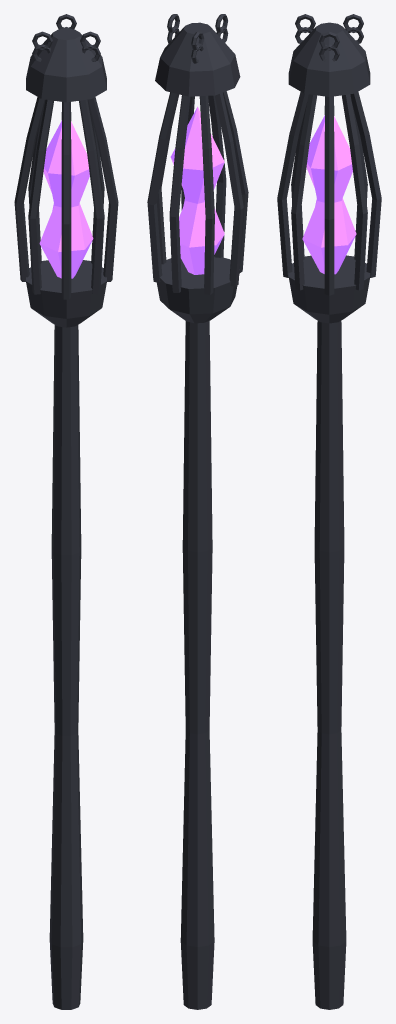
File: staff_cage.glb
3 views of the same model, side by side, from view 1: azimuth 90°, elevation 25°; view 2: azimuth 150°, elevation 25°; view 3: azimuth 270°, elevation 25° (orthographic).
Visible parts, largest first — view 1: Cag_Shaft, Cag_Top, Cag_Base, Cag_CoreU, Cag_CoreD, Cag_Bar4, Cag_Bar3, Cag_Bar5, Cag_Bar2, Cag_Bar6, Cag_Bar1, Cag_Bar7; view 2: Cag_Shaft, Cag_Top, Cag_Base, Cag_CoreU, Cag_CoreD, Cag_Bar3, Cag_Bar2, Cag_Bar4, Cag_Bar1, Cag_Bar6, Cag_Bar5, Cag_Bar0; view 3: Cag_Shaft, Cag_Top, Cag_Base, Cag_CoreU, Cag_CoreD, Cag_Bar0, Cag_Bar1, Cag_Bar7, Cag_Bar2, Cag_Bar6, Cag_Bar3, Cag_Bar5.
Part boxes in pixels (x1=…): Cag_Shaft: x1=49, y1=325, x2=83, y2=1009; Cag_Top: x1=26, y1=28, x2=106, y2=102; Cag_Base: x1=26, y1=260, x2=106, y2=327; Cag_CoreU: x1=43, y1=120, x2=89, y2=207; Cag_CoreD: x1=39, y1=203, x2=93, y2=278; Cag_Bar4: x1=61, y1=102, x2=71, y2=299; Cag_Bar3: x1=28, y1=99, x2=53, y2=294; Cag_Bar5: x1=79, y1=99, x2=104, y2=294; Cag_Bar2: x1=14, y1=97, x2=45, y2=281; Cag_Bar6: x1=87, y1=97, x2=118, y2=281; Cag_Bar1: x1=28, y1=106, x2=44, y2=263; Cag_Bar7: x1=88, y1=106, x2=104, y2=263; Cag_Shaft: x1=180, y1=321, x2=214, y2=1009; Cag_Top: x1=155, y1=22, x2=240, y2=96; Cag_Base: x1=156, y1=256, x2=240, y2=323; Cag_CoreU: x1=170, y1=106, x2=224, y2=203; Cag_CoreD: x1=179, y1=199, x2=224, y2=274; Cag_Bar3: x1=199, y1=96, x2=214, y2=294; Cag_Bar2: x1=169, y1=95, x2=190, y2=292; Cag_Bar4: x1=215, y1=93, x2=243, y2=286; Cag_Bar1: x1=147, y1=92, x2=178, y2=282; Cag_Bar6: x1=208, y1=95, x2=226, y2=257; Cag_Bar5: x1=223, y1=91, x2=248, y2=272; Cag_Bar0: x1=157, y1=94, x2=179, y2=264; Cag_Shaft: x1=312, y1=321, x2=346, y2=1009; Cag_Top: x1=288, y1=22, x2=370, y2=96; Cag_Base: x1=288, y1=255, x2=370, y2=323; Cag_CoreU: x1=306, y1=115, x2=352, y2=202; Cag_CoreD: x1=302, y1=198, x2=356, y2=274; Cag_Bar0: x1=324, y1=96, x2=334, y2=295; Cag_Bar1: x1=341, y1=94, x2=367, y2=290; Cag_Bar7: x1=291, y1=94, x2=317, y2=290; Cag_Bar2: x1=350, y1=92, x2=381, y2=277; Cag_Bar6: x1=277, y1=92, x2=308, y2=277; Cag_Bar3: x1=351, y1=102, x2=367, y2=259; Cag_Bar5: x1=291, y1=102, x2=307, y2=259.
Bounding box in the file's own units: 0.2061 × 2.15 × 0.207.
